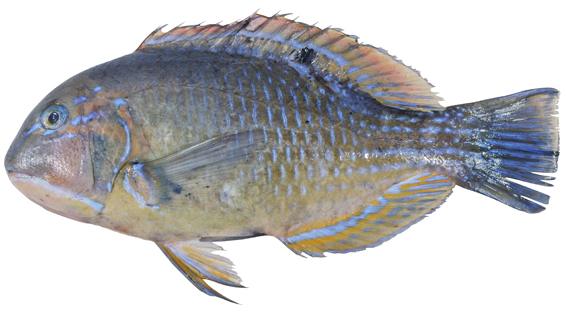fish: (5, 13, 560, 305)
